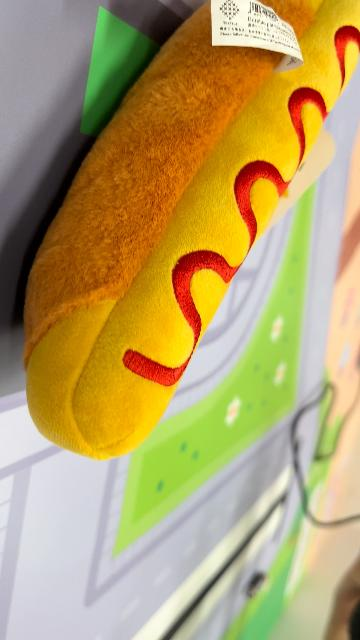hotdog: (22, 1, 358, 462)
